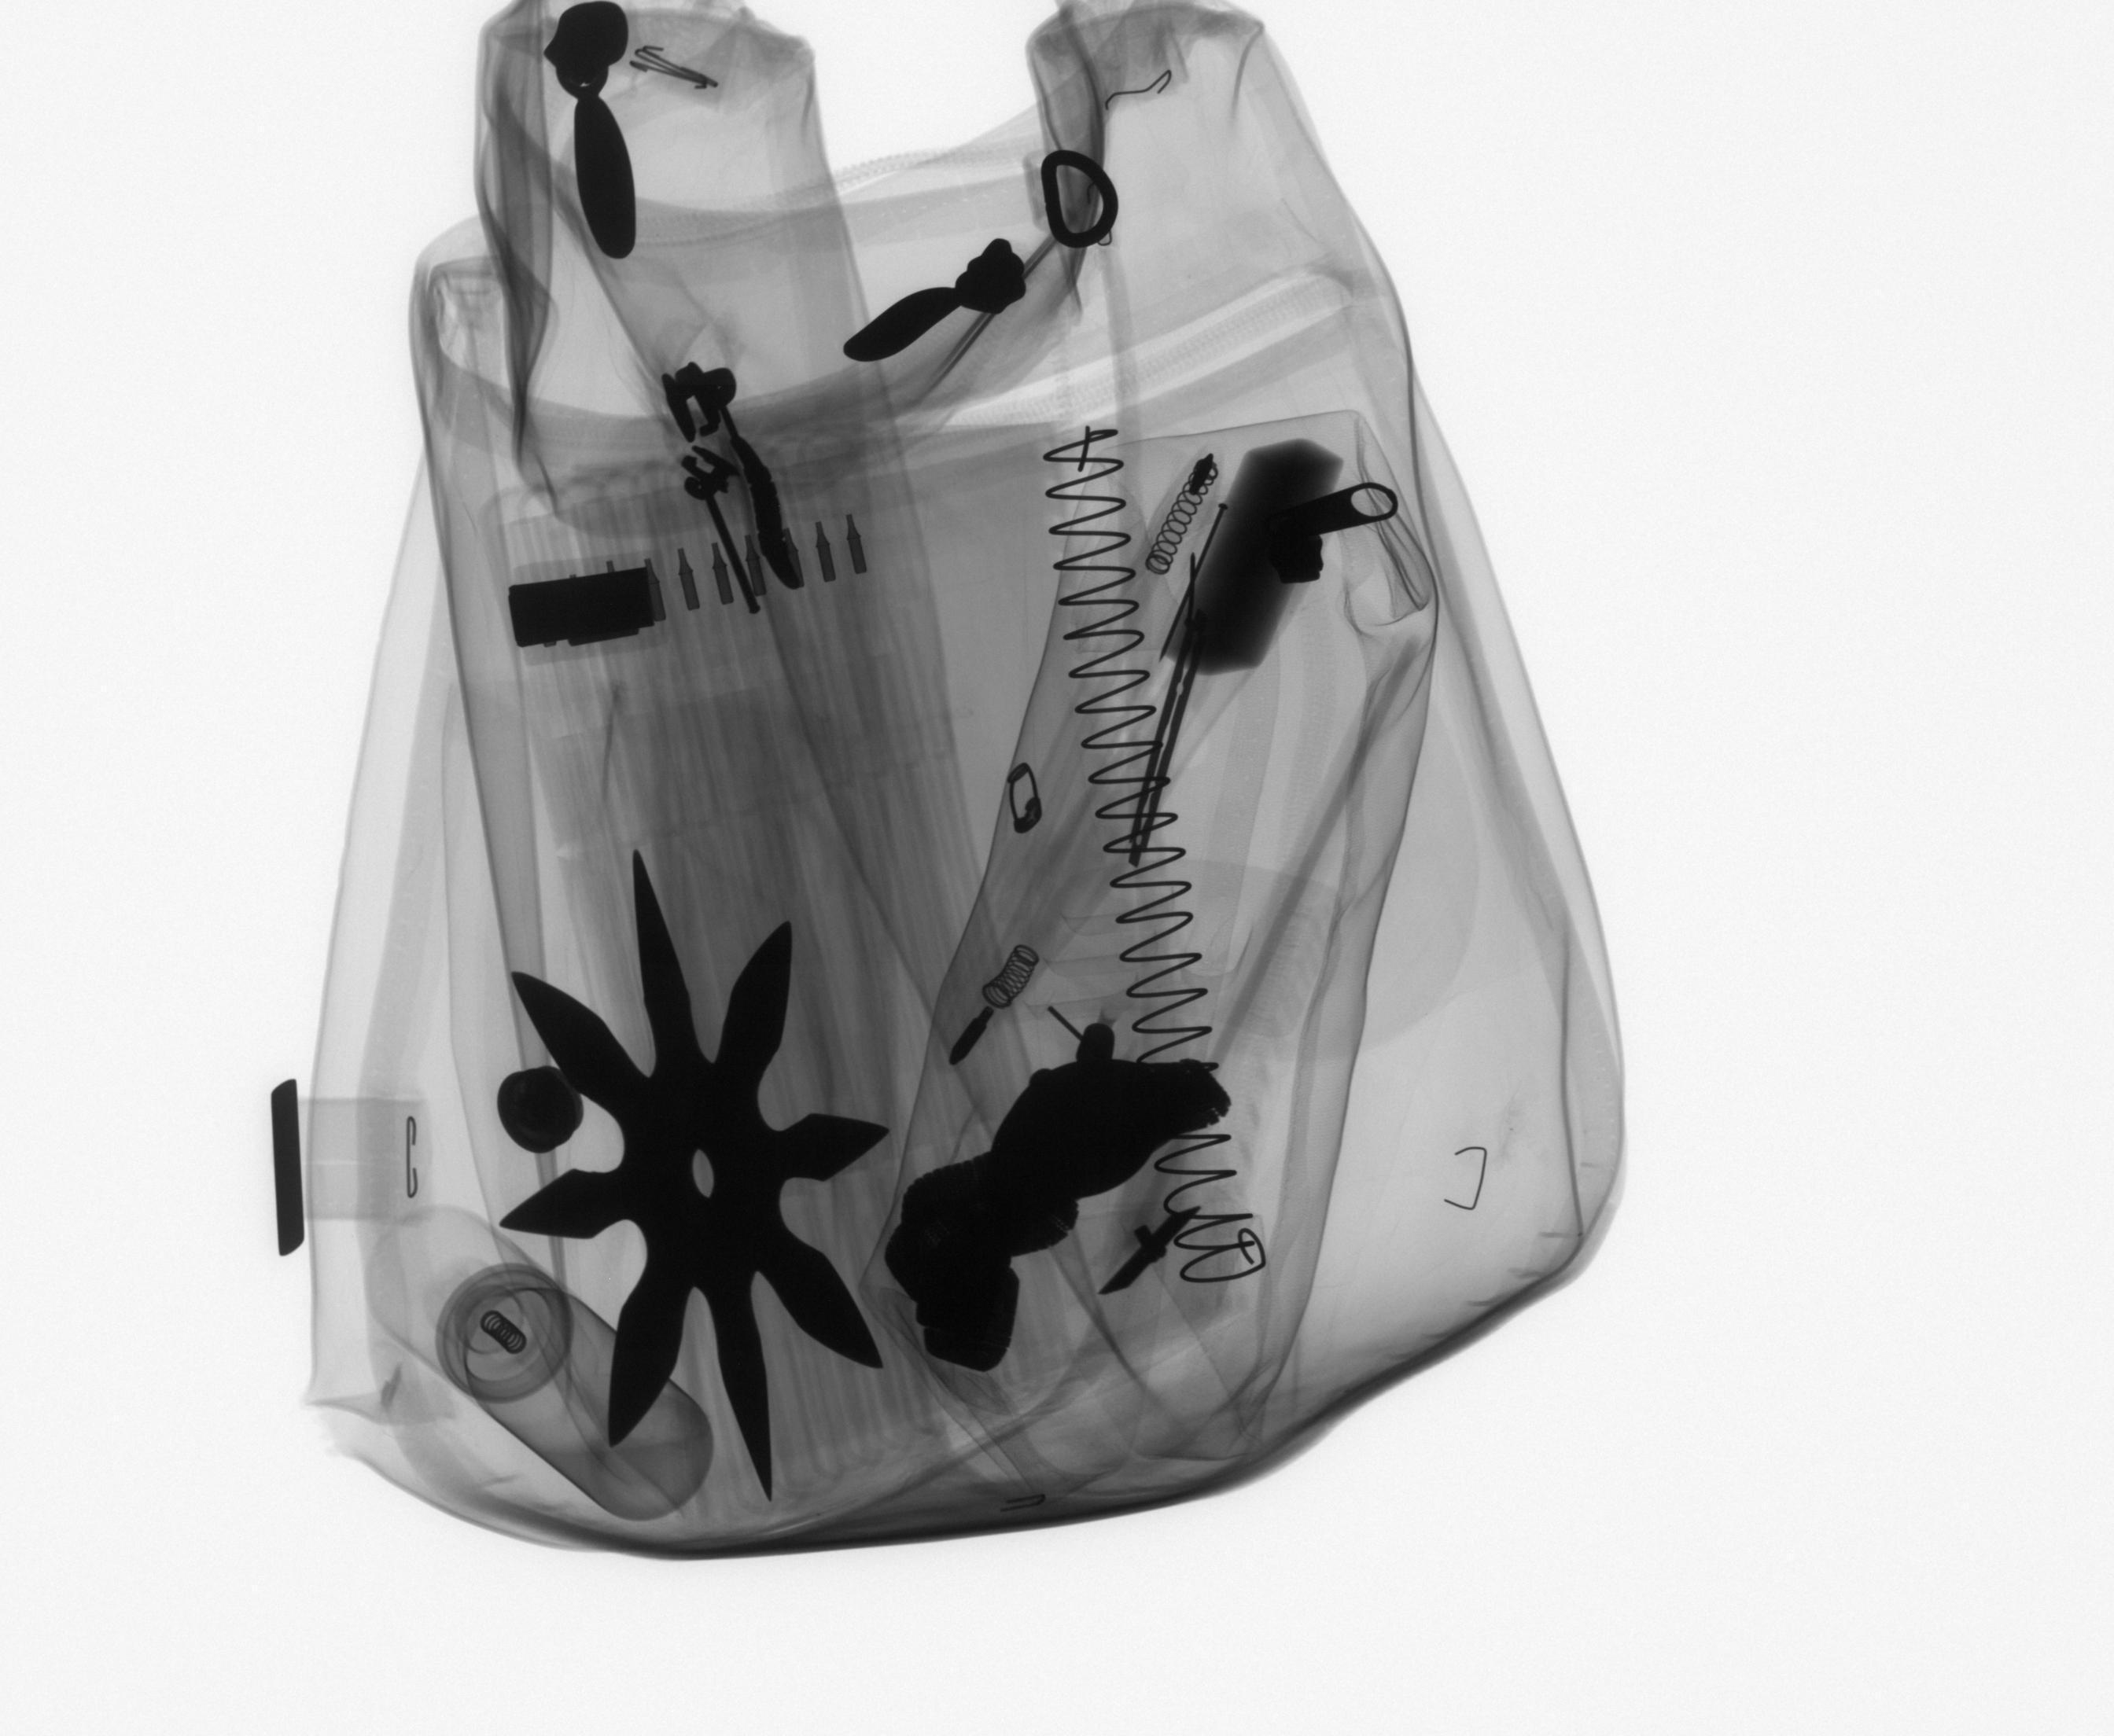Shuriken: (492, 844, 897, 1511)
